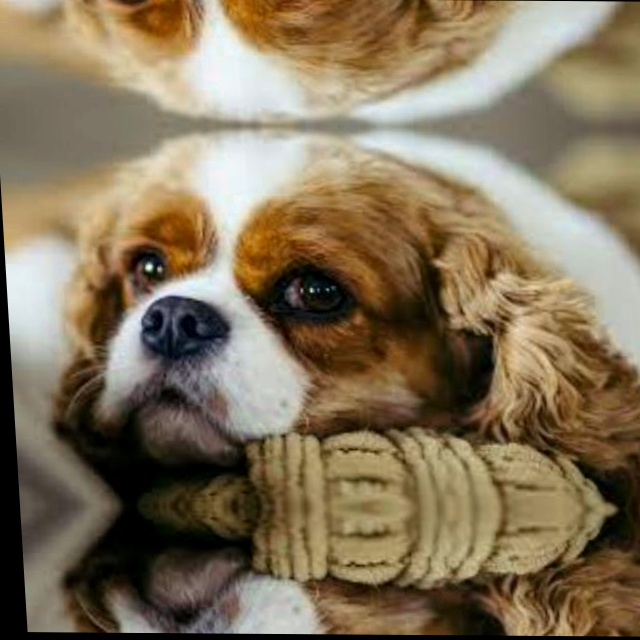dog: (55, 138, 640, 467), (46, 0, 630, 115), (79, 548, 640, 637)
